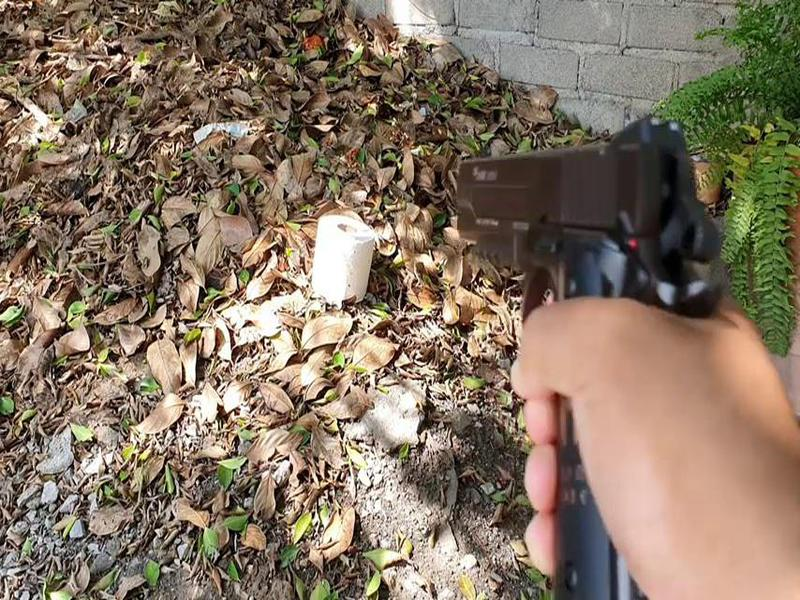Pistola: (431, 97, 771, 495)
